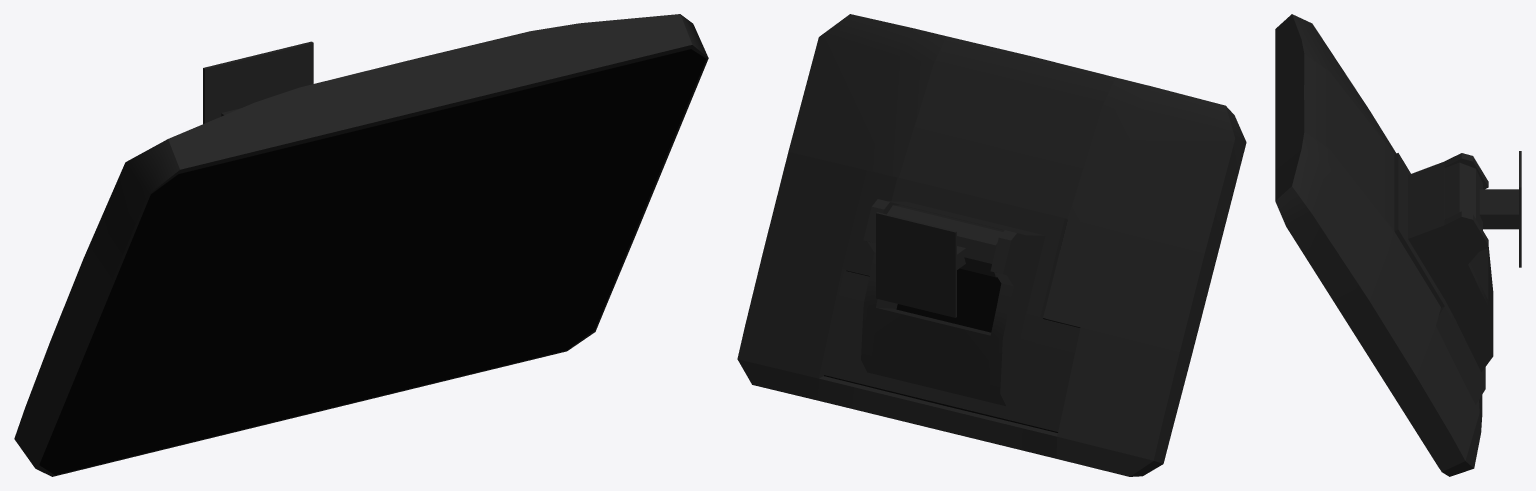
Rendered from UPOS_211_Wall_black.fbx.
3 views of the same model, side by side, from view 1: azimuth 30°, elevation 25°; view 2: azimuth 150°, elevation 25°; view 3: azimuth 270°, elevation 25° (orthographic). The views are drawn at different scales.
Parts seen in each view (by area): view 1: A, D, B, E; view 2: D, C, E, A; view 3: D, C, E.
Boxes of the visible parts, x1=… form: A: x1=61, y1=64, x2=684, y2=459; D: x1=14, y1=14, x2=708, y2=476; B: x1=39, y1=49, x2=706, y2=474; E: x1=203, y1=41, x2=313, y2=123; D: x1=737, y1=14, x2=1246, y2=476; C: x1=822, y1=177, x2=1080, y2=431; E: x1=876, y1=205, x2=1003, y2=317; A: x1=824, y1=268, x2=1080, y2=432; D: x1=1275, y1=14, x2=1482, y2=476; C: x1=1394, y1=153, x2=1493, y2=404; E: x1=1444, y1=151, x2=1521, y2=267.
Bounding box in the file's own units: 34.81 × 25.34 × 18.98.
